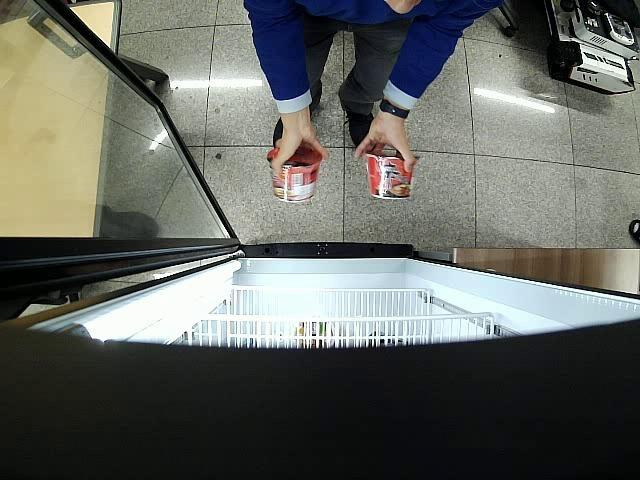01_ShinRamen_L: (267, 146, 321, 202), (363, 152, 422, 199)
